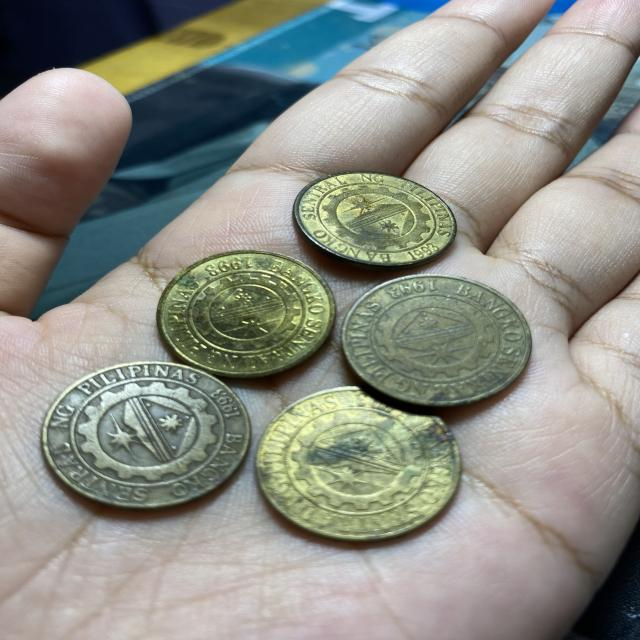25Cent_Old_Back: (162, 250, 326, 379)
